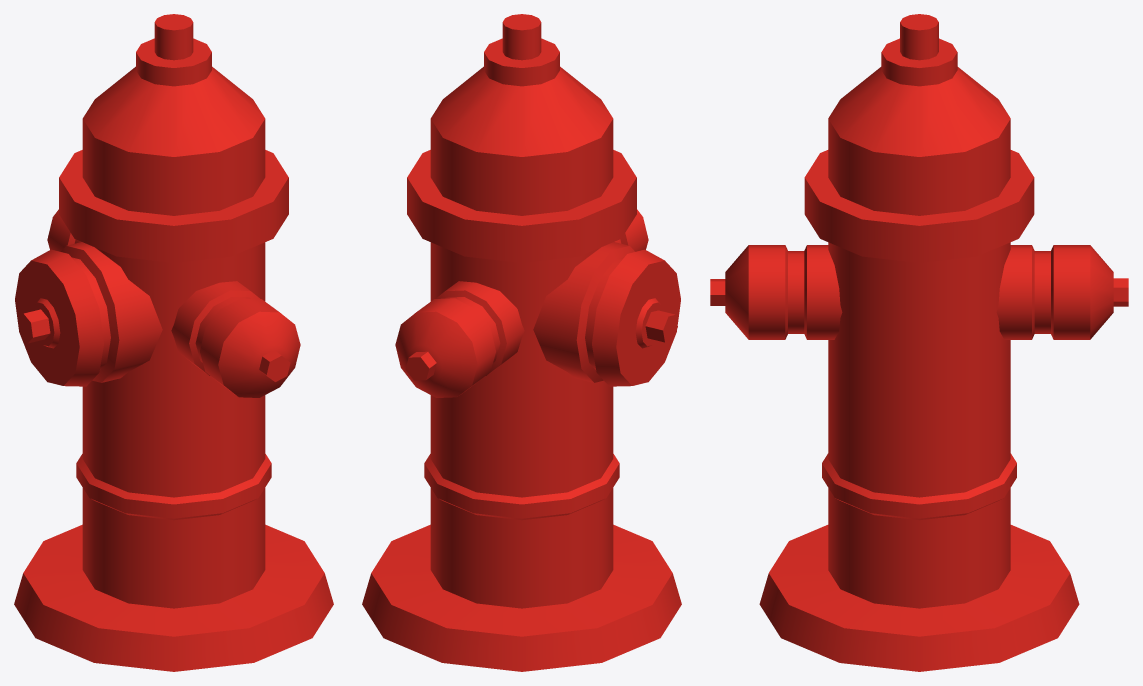
The model's file is fire_hydrant.glb.
3 renders of one model, left to right at view 1: azimuth 30°, elevation 25°; view 2: azimuth 150°, elevation 25°; view 3: azimuth 270°, elevation 25°, orthographic.
Parts seen in each view (by area): view 1: Cylinder; view 2: Cylinder; view 3: Cylinder.
Part boxes in pixels (bbox=[...]): Cylinder: bbox=[14, 14, 333, 671]; Cylinder: bbox=[362, 14, 681, 671]; Cylinder: bbox=[710, 14, 1128, 671].
Bounding box in the file's own units: 41.74 × 80.89 × 52.68.
